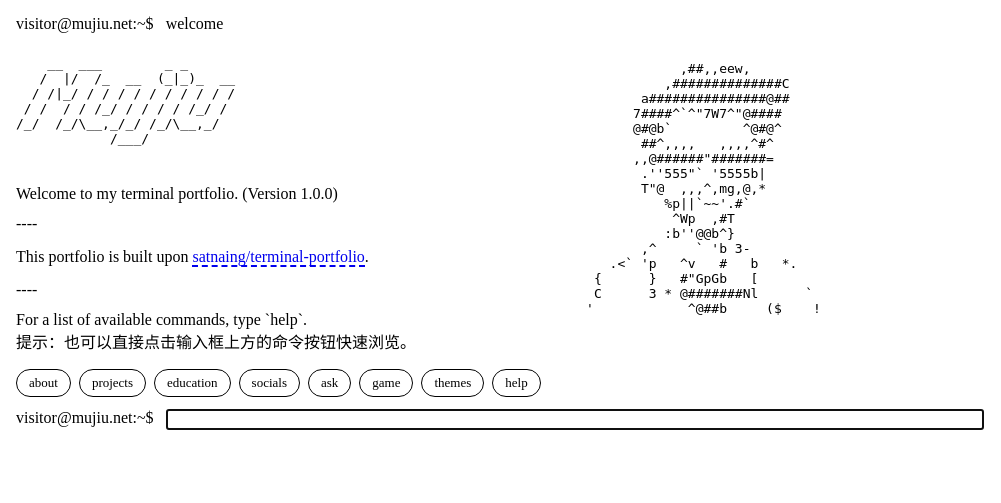
Test case: Terminal Component › Input Commands › should return 'command not found' when input value is invalid
Type "demo" into the field titled "terminal-input" at (575, 420), box [166,409,984,430]
Then press Enter
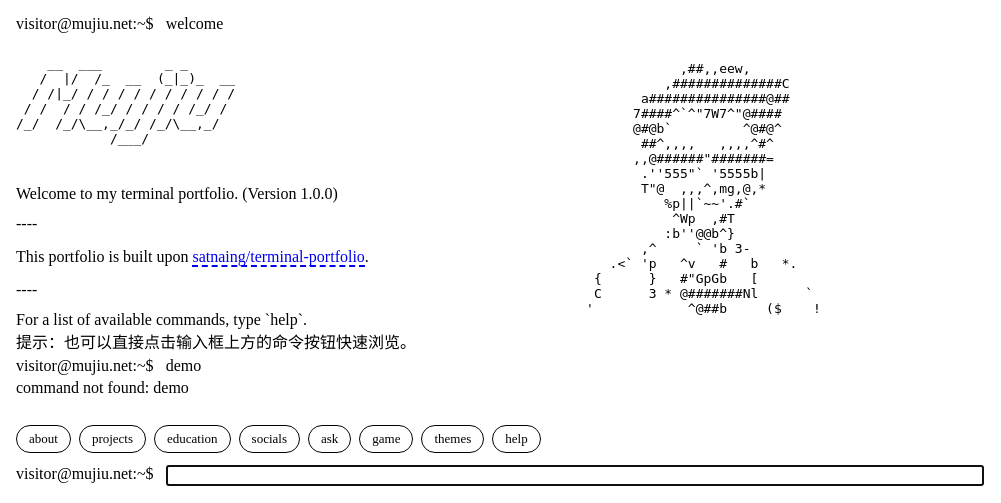
Check: the text with test id "not-found-0" reads "command not found: demo", box [16,379,189,396]
